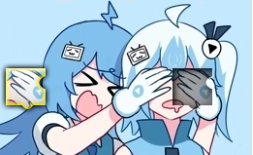gap: (172, 68, 213, 109)
